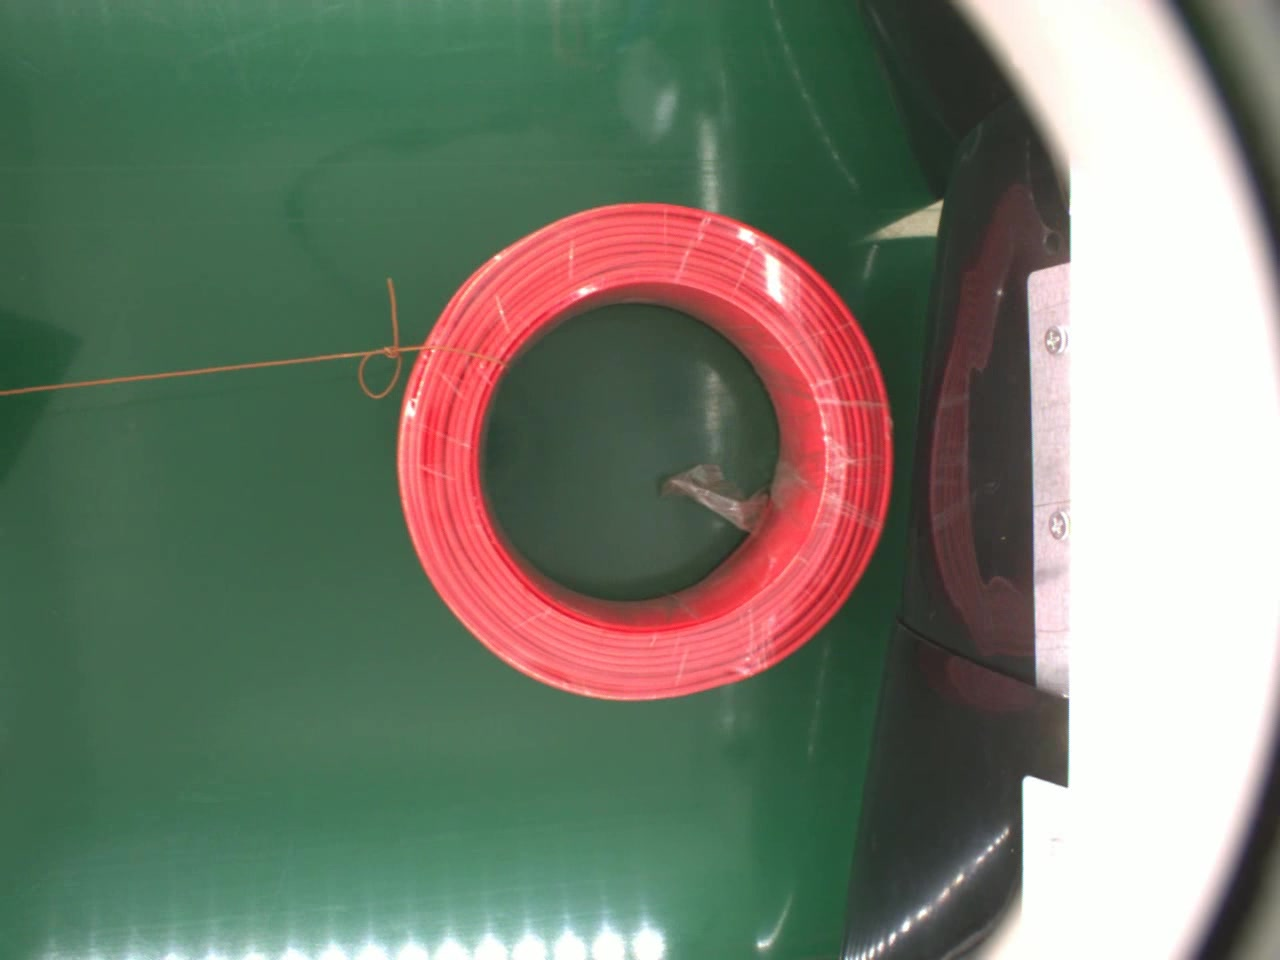red: (386, 194, 897, 704)
